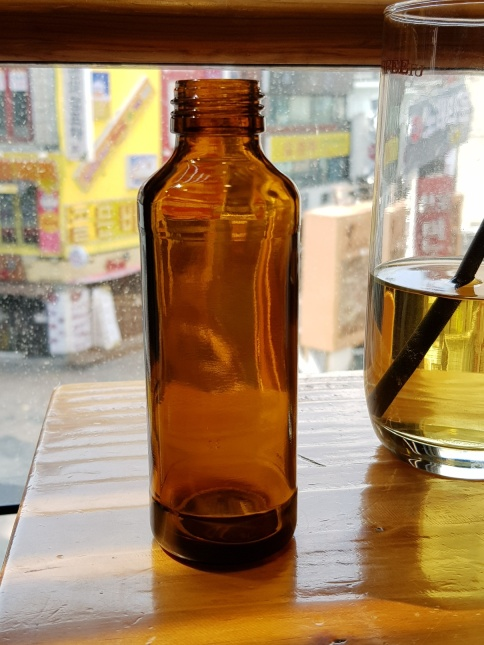Glass: (139, 71, 306, 572)
